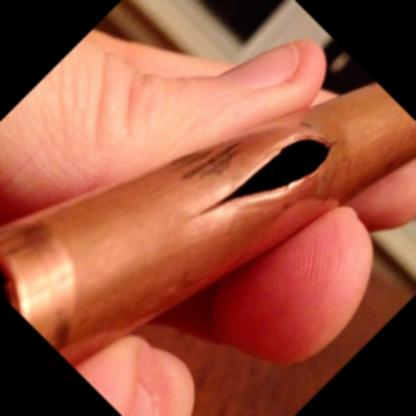burst: (224, 131, 343, 229)
